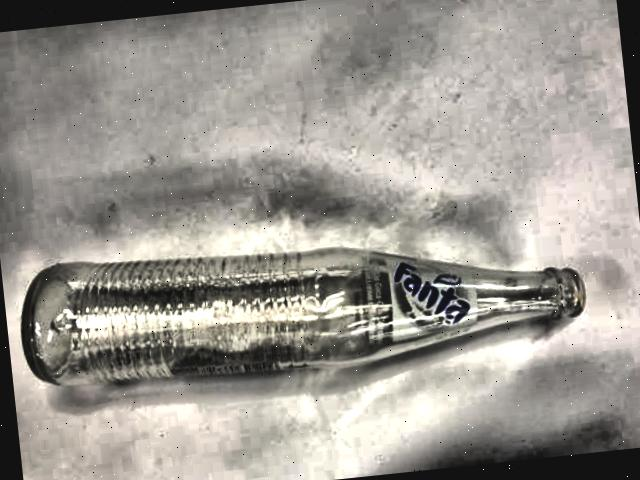Bottles: (0, 180, 610, 439)
